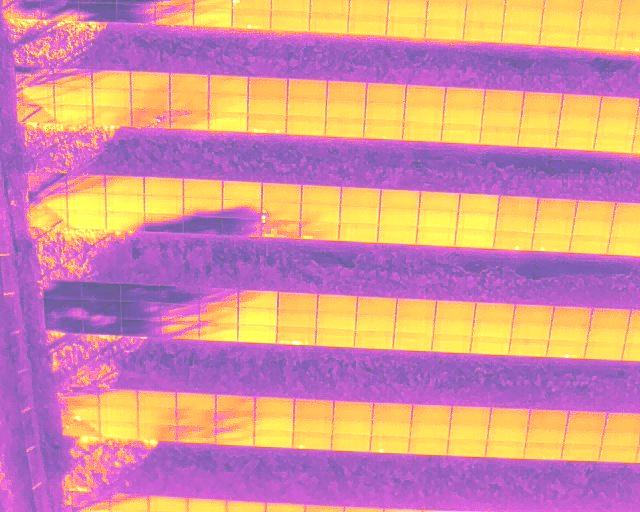Cell: (365, 119, 403, 139), (494, 232, 534, 250), (370, 436, 408, 454), (294, 432, 332, 450), (62, 420, 100, 435), (62, 405, 99, 420)
Cell-Multi: (232, 8, 270, 29), (248, 114, 287, 133), (277, 325, 315, 344), (532, 235, 573, 252), (301, 221, 339, 239), (547, 340, 586, 357), (262, 202, 300, 219), (262, 220, 300, 237), (525, 442, 562, 459)
No-Anomaly: (503, 2, 544, 23), (271, 10, 310, 32), (348, 14, 386, 36), (578, 27, 616, 49), (580, 7, 619, 28), (310, 12, 348, 33), (466, 0, 504, 21), (426, 19, 465, 39), (131, 89, 170, 109), (193, 6, 232, 26), (444, 104, 483, 124), (387, 16, 424, 37), (465, 21, 502, 42), (543, 5, 580, 26), (455, 230, 495, 249), (302, 186, 340, 206), (403, 121, 441, 141), (325, 117, 363, 137), (519, 128, 557, 148), (209, 112, 247, 132), (596, 133, 634, 153), (442, 124, 481, 143), (93, 106, 132, 125), (326, 98, 365, 117), (542, 26, 579, 46), (457, 212, 498, 230), (209, 75, 247, 94), (279, 292, 317, 311), (600, 97, 638, 116), (481, 126, 519, 145), (287, 116, 325, 135), (405, 103, 443, 122), (503, 24, 541, 43), (558, 131, 596, 150), (569, 236, 609, 254), (575, 201, 615, 219), (458, 194, 500, 211), (560, 111, 597, 130), (409, 438, 448, 456), (332, 434, 371, 452), (513, 304, 552, 322), (341, 189, 380, 207), (406, 85, 445, 103), (288, 79, 327, 97), (248, 77, 287, 95), (427, 0, 466, 18), (436, 300, 475, 318), (222, 182, 261, 200), (536, 200, 575, 218), (378, 226, 417, 244), (106, 176, 145, 194), (393, 333, 432, 351), (490, 408, 529, 426), (366, 101, 405, 119), (355, 331, 394, 349), (316, 329, 355, 347), (379, 190, 420, 207), (498, 197, 539, 214), (419, 194, 460, 211), (255, 430, 293, 448), (144, 197, 182, 215), (68, 210, 106, 228), (278, 309, 316, 327), (512, 322, 550, 340), (238, 325, 276, 343), (100, 406, 138, 424), (412, 405, 450, 423), (248, 96, 286, 114), (144, 179, 182, 197), (287, 97, 325, 115), (483, 107, 521, 125), (521, 110, 559, 128), (238, 308, 278, 325), (495, 216, 537, 232), (475, 303, 512, 321), (552, 306, 589, 324), (397, 299, 436, 316), (317, 295, 356, 312), (169, 74, 208, 91), (131, 71, 170, 88), (366, 83, 405, 100), (445, 87, 484, 104), (484, 89, 523, 106), (262, 184, 301, 201), (183, 180, 222, 197), (106, 195, 145, 212), (379, 209, 418, 226), (340, 207, 379, 224), (340, 225, 379, 242), (356, 313, 395, 330), (316, 312, 355, 329), (488, 425, 527, 442), (209, 95, 248, 112), (523, 93, 562, 110), (137, 391, 176, 408), (590, 308, 629, 325), (571, 220, 612, 236), (533, 218, 574, 234), (587, 341, 623, 359), (93, 72, 131, 89), (388, 0, 426, 17), (301, 204, 339, 221), (563, 443, 601, 460), (255, 415, 293, 432), (334, 402, 372, 419), (295, 400, 333, 417), (510, 339, 548, 356), (99, 390, 137, 407), (530, 410, 568, 427), (567, 412, 605, 429), (171, 92, 209, 109), (411, 423, 449, 440), (450, 424, 488, 441), (562, 94, 600, 111), (598, 115, 636, 132), (471, 337, 509, 354), (416, 229, 456, 245), (418, 212, 458, 228), (176, 393, 216, 409), (433, 335, 470, 352), (372, 420, 409, 437), (486, 441, 525, 457), (357, 297, 396, 313), (149, 494, 188, 510), (600, 446, 639, 462), (327, 81, 366, 97), (67, 194, 106, 210), (396, 316, 435, 332), (255, 397, 294, 413), (137, 409, 176, 425), (448, 440, 486, 456), (93, 89, 131, 105), (332, 419, 370, 435), (473, 322, 511, 338), (434, 319, 472, 335), (588, 326, 626, 342), (452, 407, 490, 423), (527, 427, 565, 443), (373, 403, 411, 419), (550, 324, 588, 340), (101, 422, 138, 438), (603, 430, 640, 446), (294, 417, 332, 432), (606, 413, 639, 430), (565, 428, 602, 443), (349, 0, 387, 14)
Shadowing: (117, 4, 155, 24), (55, 104, 93, 124), (170, 110, 208, 130), (132, 108, 170, 128), (222, 200, 261, 219), (156, 5, 193, 25), (16, 68, 54, 87), (30, 211, 67, 230), (17, 104, 54, 123), (44, 281, 83, 299), (222, 219, 261, 237), (216, 412, 255, 430), (72, 494, 110, 512), (183, 198, 221, 216), (200, 323, 238, 341), (121, 284, 161, 301), (122, 302, 162, 319), (83, 282, 120, 300), (201, 287, 238, 305), (162, 321, 199, 339), (79, 3, 116, 21), (44, 300, 83, 317), (183, 217, 222, 234), (176, 410, 215, 427), (215, 429, 254, 446), (39, 2, 78, 19), (55, 87, 93, 104), (144, 215, 182, 232), (29, 176, 67, 193), (83, 317, 121, 334), (67, 176, 105, 193), (238, 291, 278, 307), (162, 303, 199, 320), (55, 69, 92, 86), (29, 193, 66, 210), (106, 212, 143, 229), (177, 426, 216, 442), (3, 1, 39, 18), (161, 286, 199, 302), (110, 495, 148, 511), (17, 87, 55, 103), (61, 390, 99, 406), (216, 395, 254, 411), (122, 320, 162, 335), (200, 306, 237, 322), (84, 300, 121, 316), (139, 425, 177, 440), (45, 317, 83, 330)
